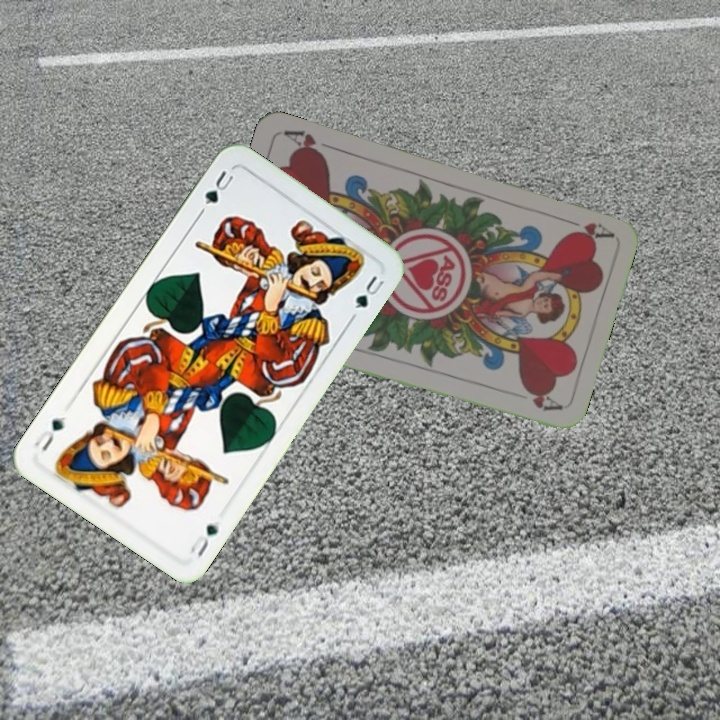GU: (196, 166, 236, 216), (186, 517, 223, 560)
HA: (556, 214, 615, 244)
